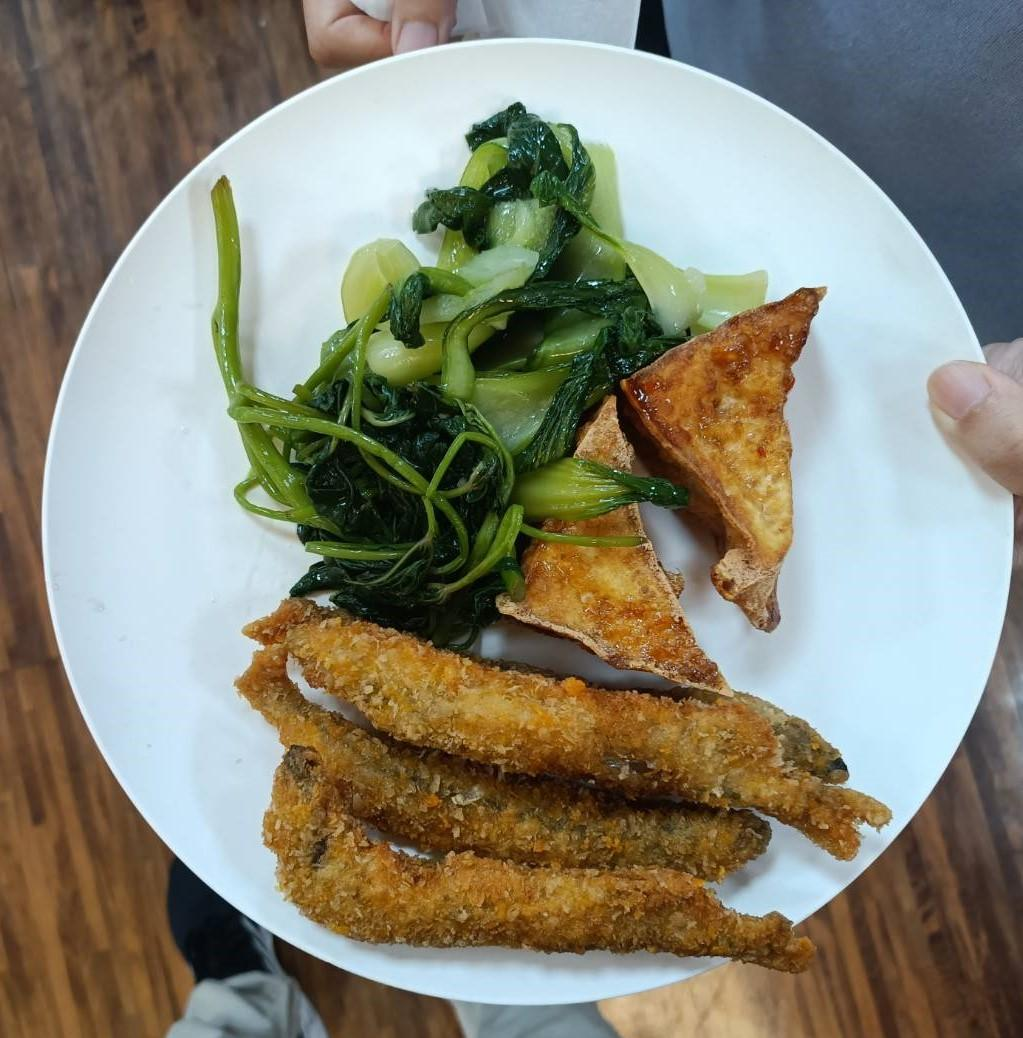big fried chicken leg: (38, 30, 1023, 998)
braised fish fillet: (345, 108, 770, 459), (496, 273, 851, 690), (203, 328, 536, 642)
braised pork: (210, 603, 890, 980)
